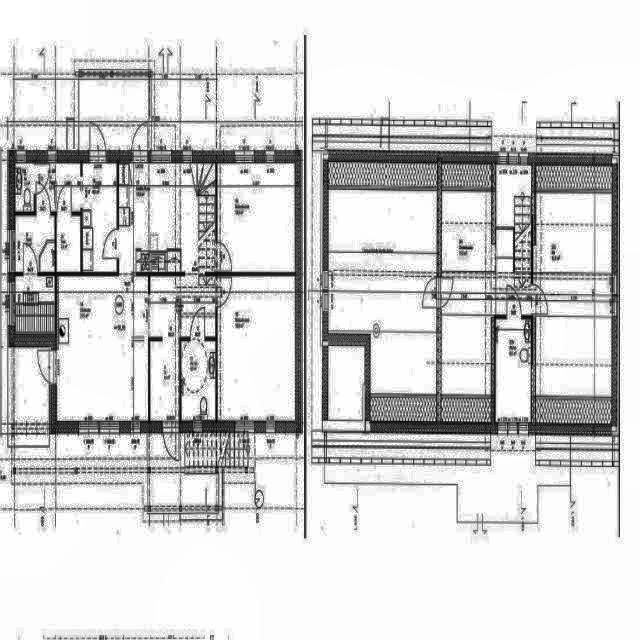room: (328, 189, 437, 395), (535, 193, 612, 397), (217, 276, 295, 421), (217, 163, 295, 273), (217, 163, 295, 272), (495, 318, 531, 422), (181, 341, 216, 420), (150, 341, 180, 421), (15, 215, 55, 272), (56, 215, 80, 272), (15, 163, 34, 212)
